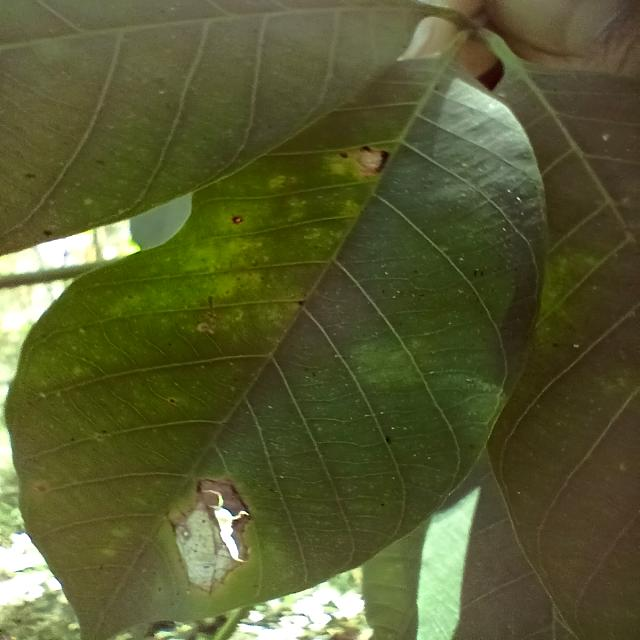Colletotrichum: (169, 399, 175, 403)
Leaf-Blight: (172, 479, 251, 593), (358, 149, 382, 171), (232, 215, 244, 226)
